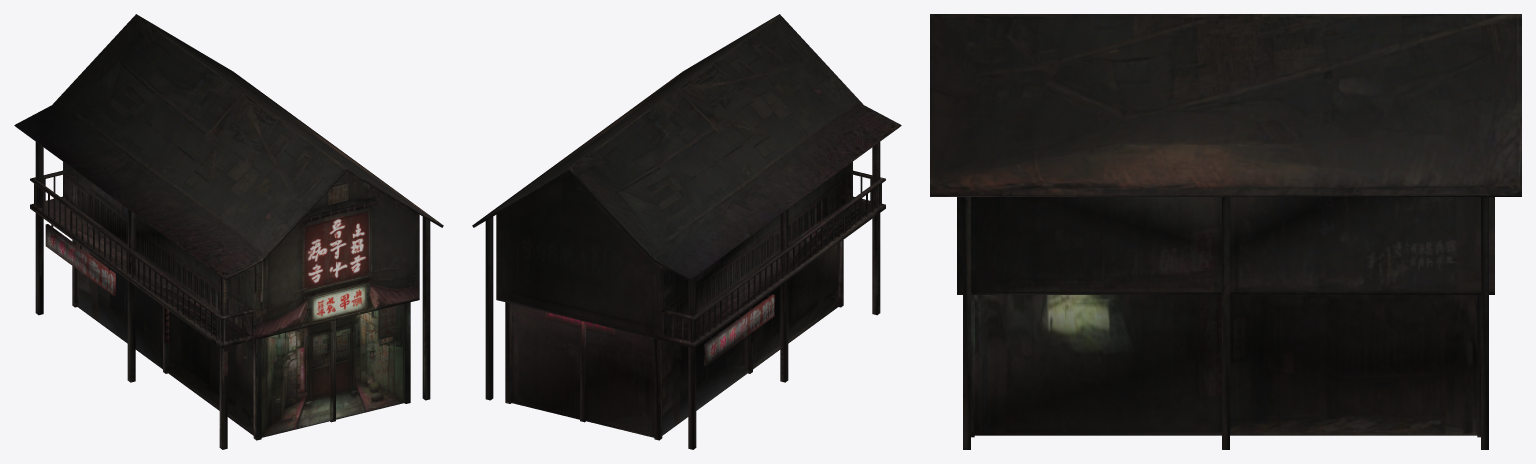
Rendered from storeA.glb.
3 views of the same model, side by side, from view 1: azimuth 30°, elevation 25°; view 2: azimuth 150°, elevation 25°; view 3: azimuth 270°, elevation 25° (orthographic). The views are drawn at different scales.
Bounding box in the file's own units: 1.2 × 1.38 × 2.
Materials: 1 (1 with a texture image).
